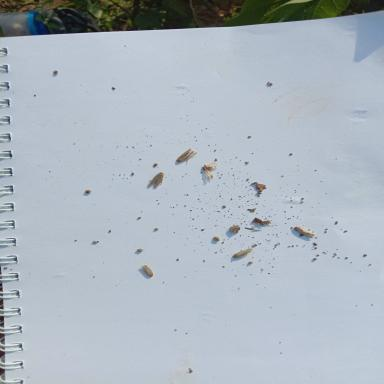pbw: (174, 144, 200, 166), (146, 169, 167, 190), (232, 245, 256, 261), (294, 224, 317, 240), (140, 262, 157, 282)
